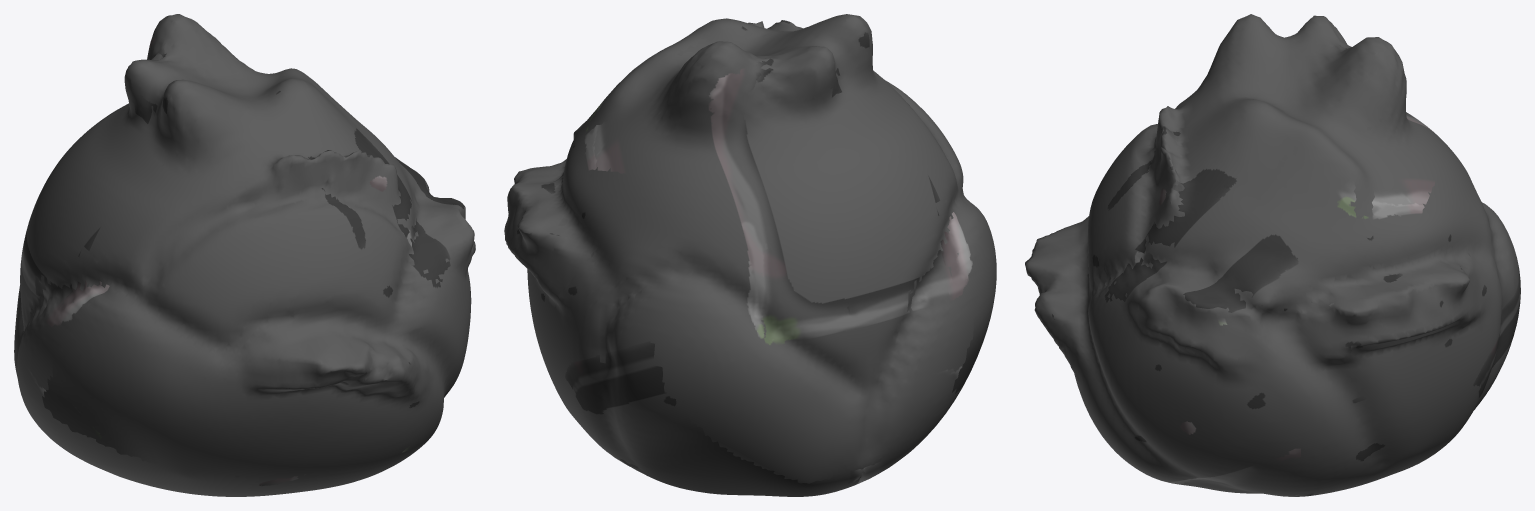
File: CabbageProjectile.fbx
3 views of the same model, side by side, from view 1: azimuth 30°, elevation 25°; view 2: azimuth 150°, elevation 25°; view 3: azimuth 270°, elevation 25° (orthographic). The views are drawn at different scales.
Visible parts, largest first — view 1: Cube.002; view 2: Cube.002; view 3: Cube.002.
Part boxes in pixels (<box>): Cube.002: <box>14,14,475,496</box>; Cube.002: <box>504,14,996,496</box>; Cube.002: <box>1025,14,1520,496</box>.
Bounding box in the file's own units: 77.44 × 81.01 × 85.57.
